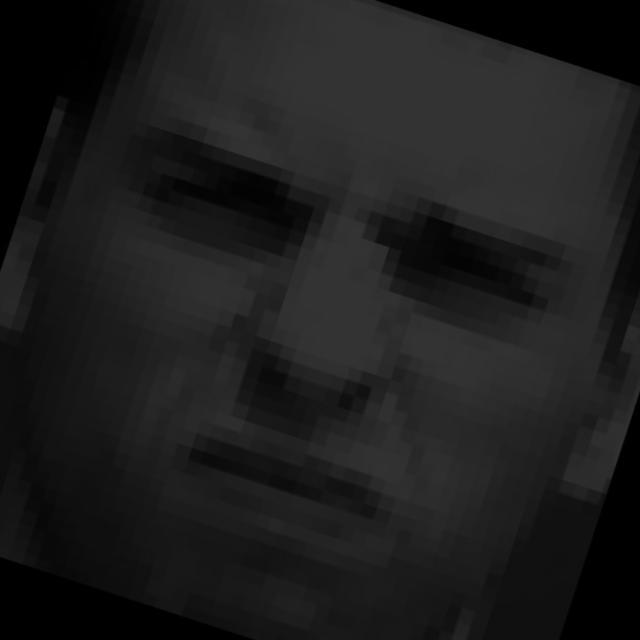Disgust: (54, 77, 640, 639)
